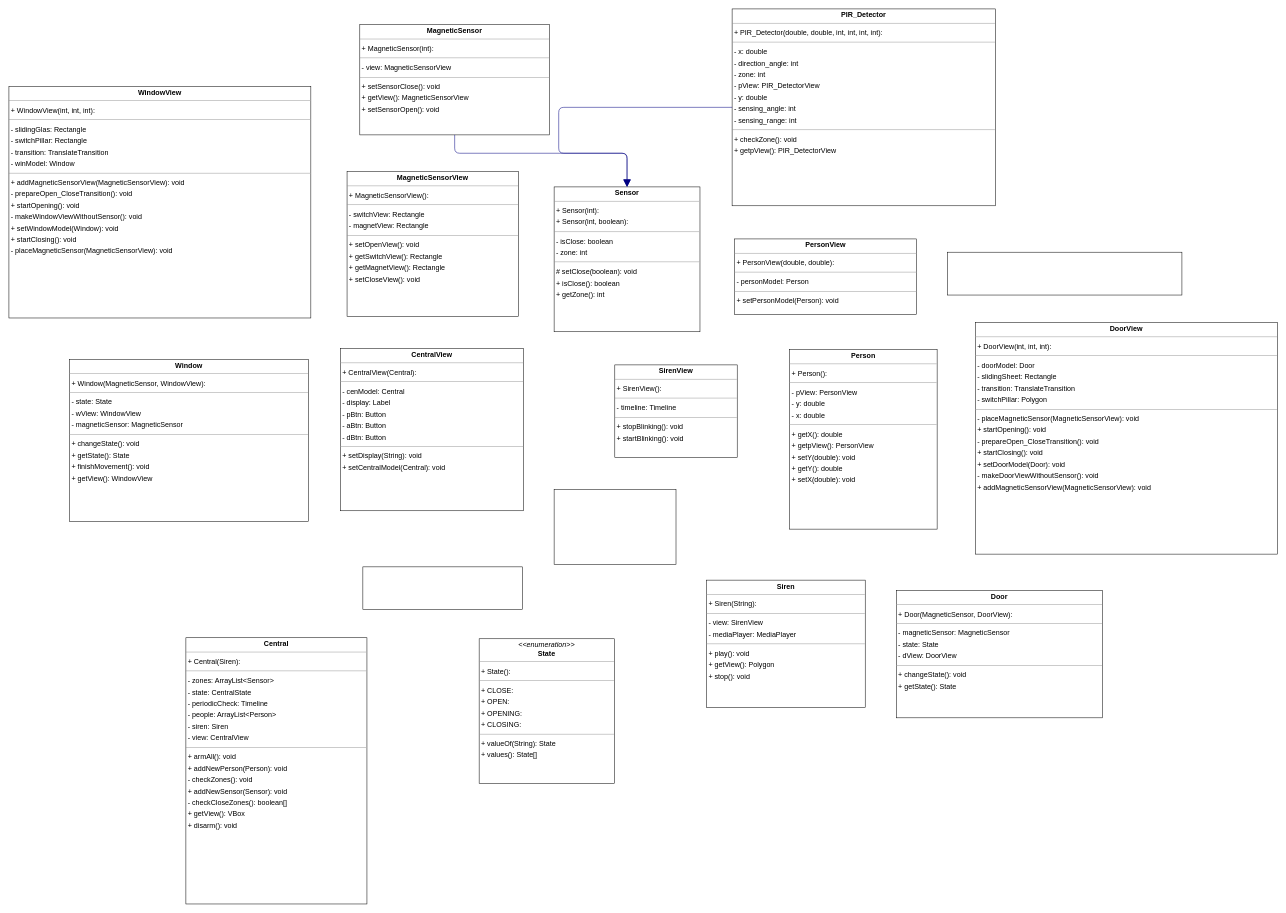
Some shapes in this 1286 by 913 pixel diagram are drawn without their labels. Here are the shapes that lost their labels. From the top down, the box of each, then its label:
(947, 252, 1182, 295): PIR_DetectorView + PIR_DetectorView(Double, Double, int):
(554, 489, 676, 564): Stage3 + Stage3(): + main(String[]): void + start(Stage): void
(362, 566, 522, 610): House + House(Scanner, Central):
